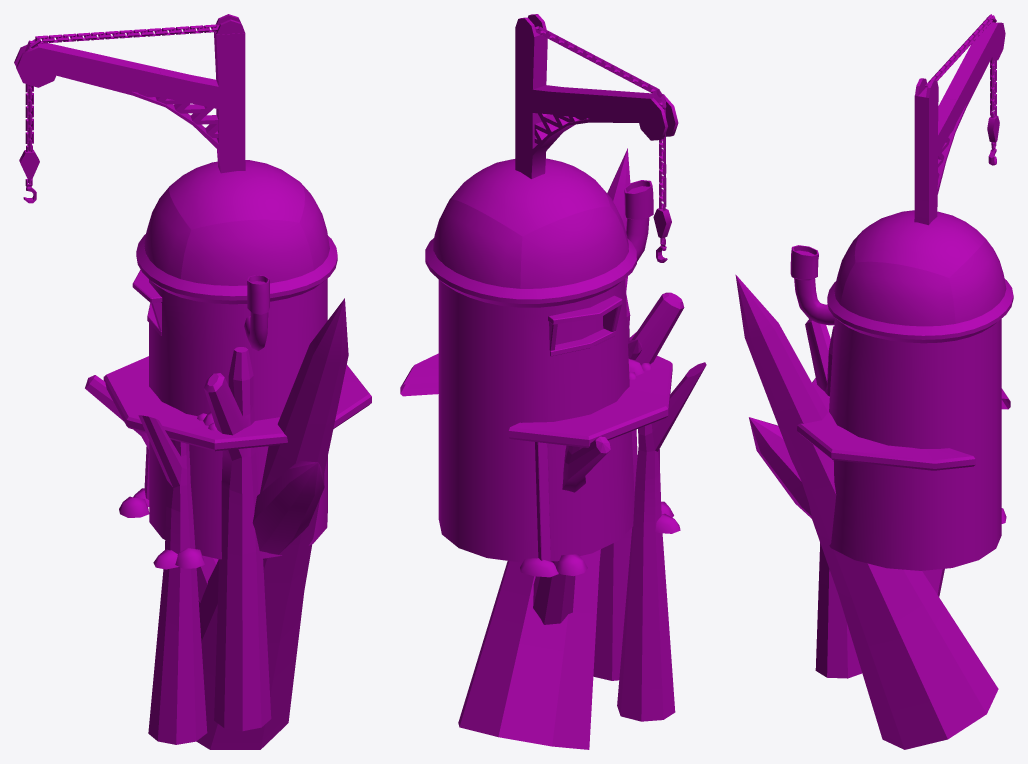
File: Adobe_Crane.fbx
The picture shows the model from 3 angles, left to right: view 1: azimuth 30°, elevation 25°; view 2: azimuth 150°, elevation 25°; view 3: azimuth 270°, elevation 25°; orthographic projection. The views are drawn at different scales.
Parts seen in each view (by area): view 1: Adobe_Crane_Crystal, Adobe_Crane_Steel, Adobe_Crane_Stone; view 2: Adobe_Crane_Steel, Adobe_Crane_Stone, Adobe_Crane_Crystal, Metal_Beam; view 3: Adobe_Crane_Stone, Adobe_Crane_Crystal, Adobe_Crane_Steel.
Boxes of the visible parts, bbox=[...] form: Adobe_Crane_Crystal: bbox=[85, 298, 348, 749]; Adobe_Crane_Steel: bbox=[14, 14, 371, 451]; Adobe_Crane_Stone: bbox=[119, 278, 327, 602]; Adobe_Crane_Steel: bbox=[400, 14, 678, 447]; Adobe_Crane_Stone: bbox=[438, 279, 680, 624]; Adobe_Crane_Crystal: bbox=[458, 148, 706, 749]; Metal_Beam: bbox=[535, 442, 550, 561]; Adobe_Crane_Stone: bbox=[829, 317, 1006, 596]; Adobe_Crane_Crystal: bbox=[735, 274, 998, 749]; Adobe_Crane_Steel: bbox=[790, 14, 1013, 470].
Size of the model in its own units: 11.41 by 27.01 by 10.36.
